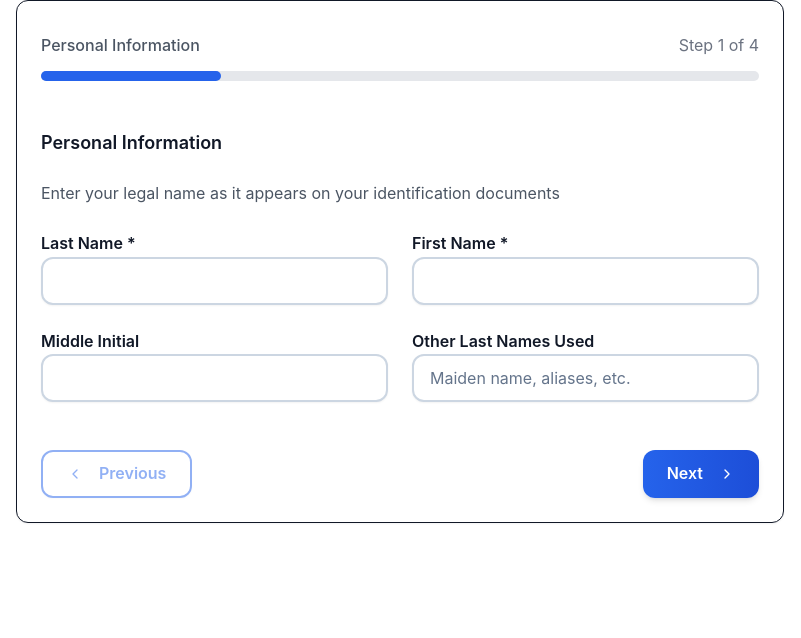
it: I9Section1FormClean › Step 1: Personal Information › should accept valid personal information
In the field labelled "Last Name *": (214, 281) x1=41 y1=257 x2=388 y2=305, type "Doe"
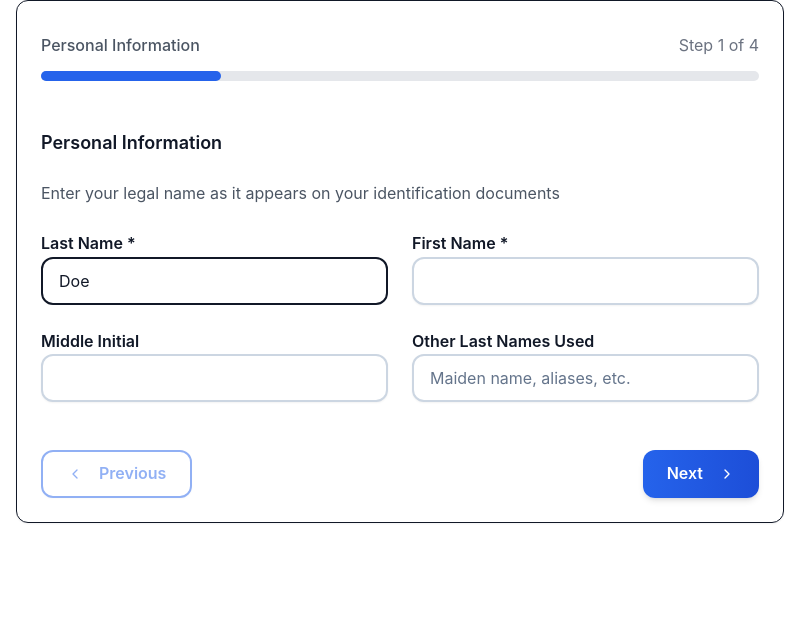
In the field labelled "First Name *": (586, 281) x1=412 y1=257 x2=759 y2=305, type "Jane"
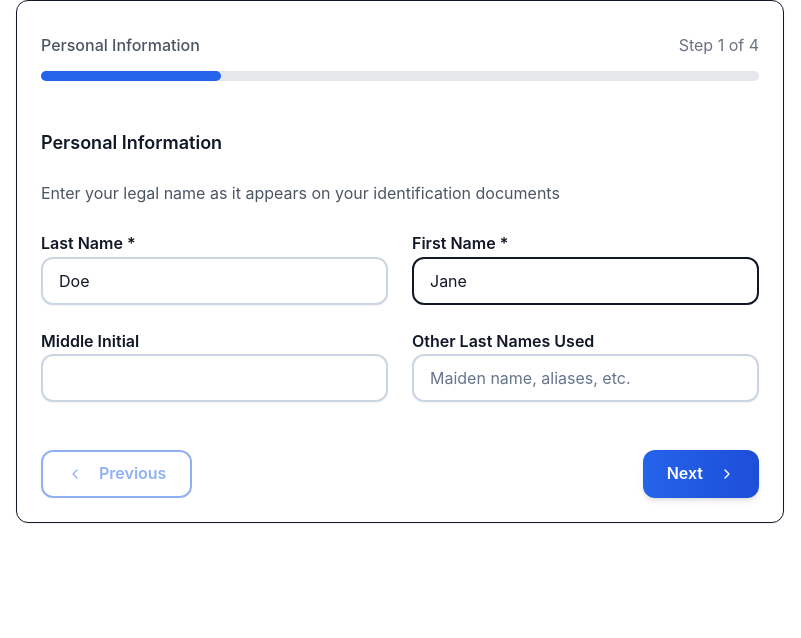
In the field labelled "Middle Initial": (214, 378) x1=41 y1=354 x2=388 y2=402, type "M"
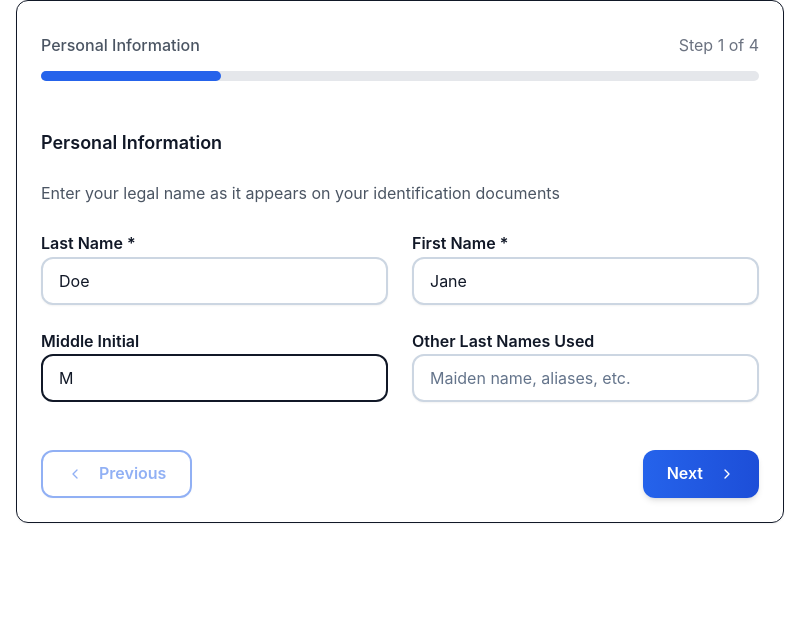
Click the button "Next": (701, 474) x1=643 y1=450 x2=759 y2=498
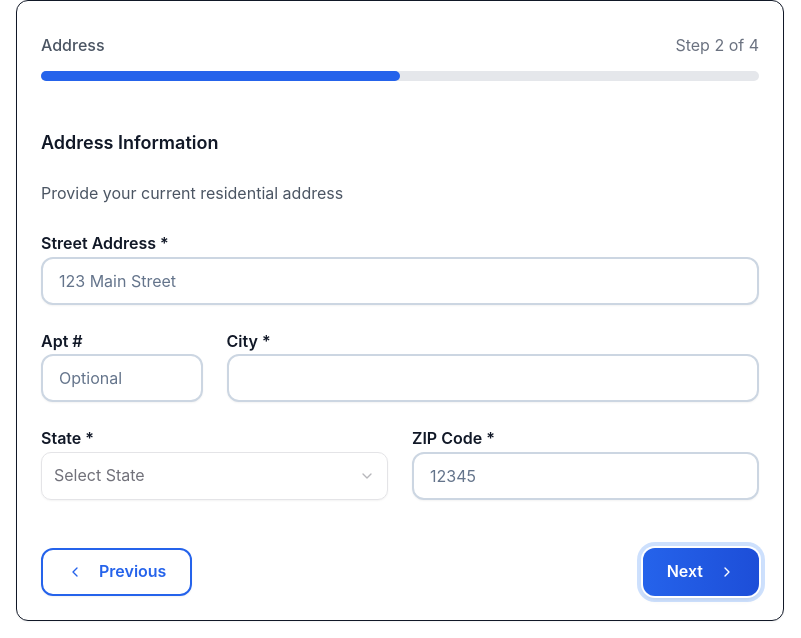
Check: the heading "Address Information" is shown, box x1=41 y1=132 x2=218 y2=153
